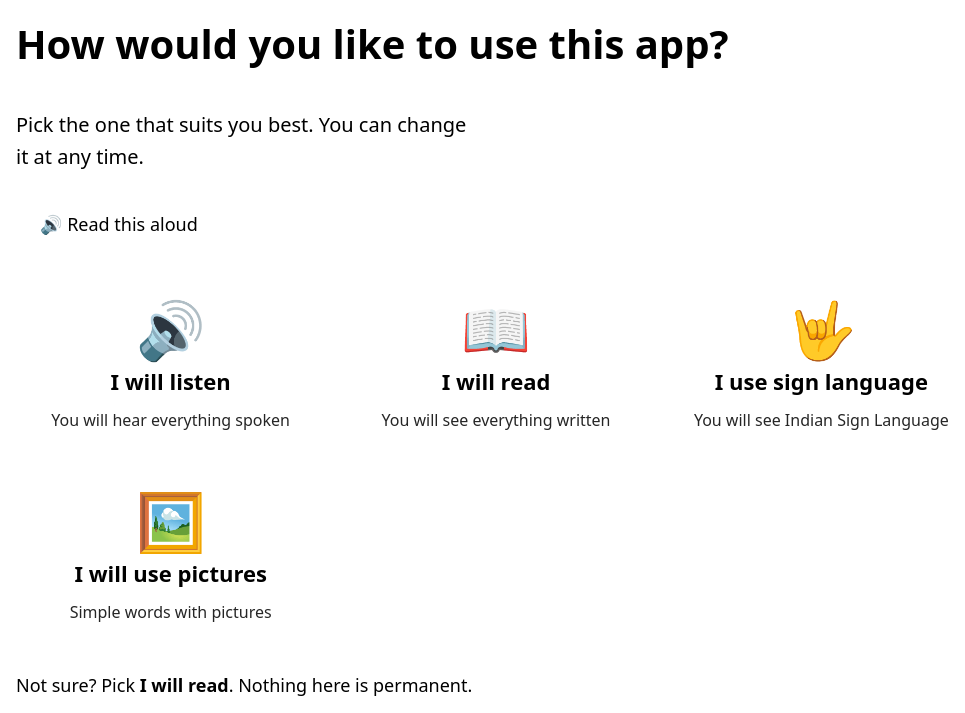
the confirmation stage › asks only questions that could change the profile
The width and height of the screenshot is (965, 713).
Click the button "🖼️ I will use pictures Simple words with pictures" at [171, 559], box [16,471,325,647]
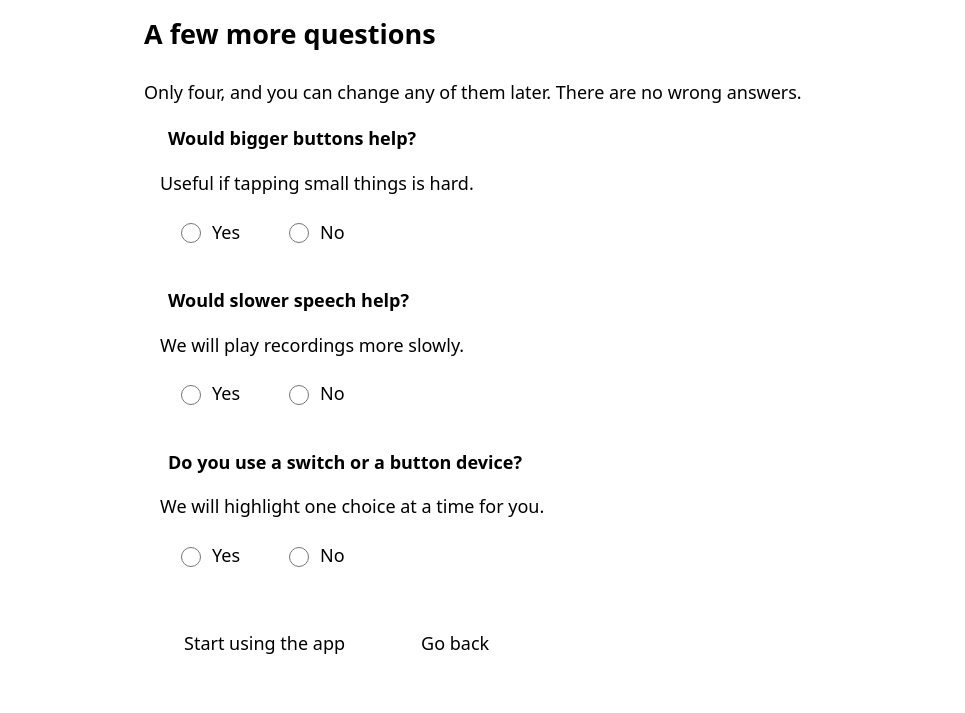
Expected: the heading "A few more questions" is shown, [144,15,436,52]
